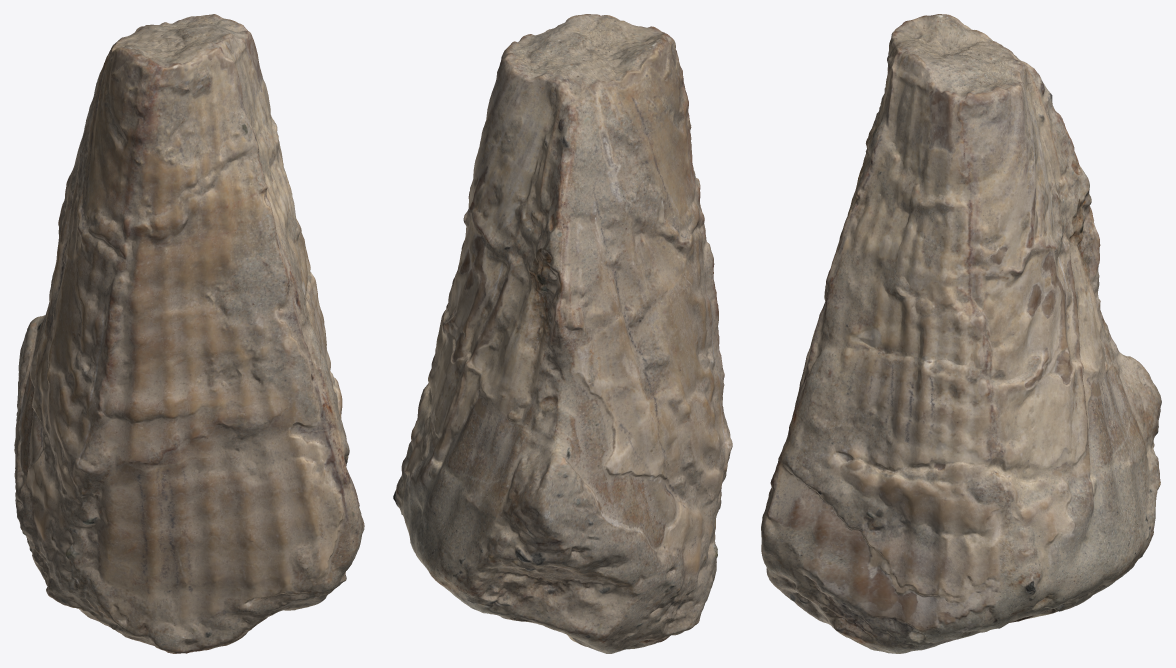
The model's file is EWS0016384.glb.
3 views of the same model, side by side, from view 1: azimuth 30°, elevation 25°; view 2: azimuth 150°, elevation 25°; view 3: azimuth 270°, elevation 25° (orthographic).
Visible parts, largest first — view 1: input; view 2: input; view 3: input.
Part boxes in pixels (x1,y1,x2,y2): input: (14,14,364,653); input: (393,14,732,653); input: (761,14,1161,653).
Bounding box in the file's own units: 0.0286 × 0.0569 × 0.0347.
Materials: 1 (1 with a texture image).
